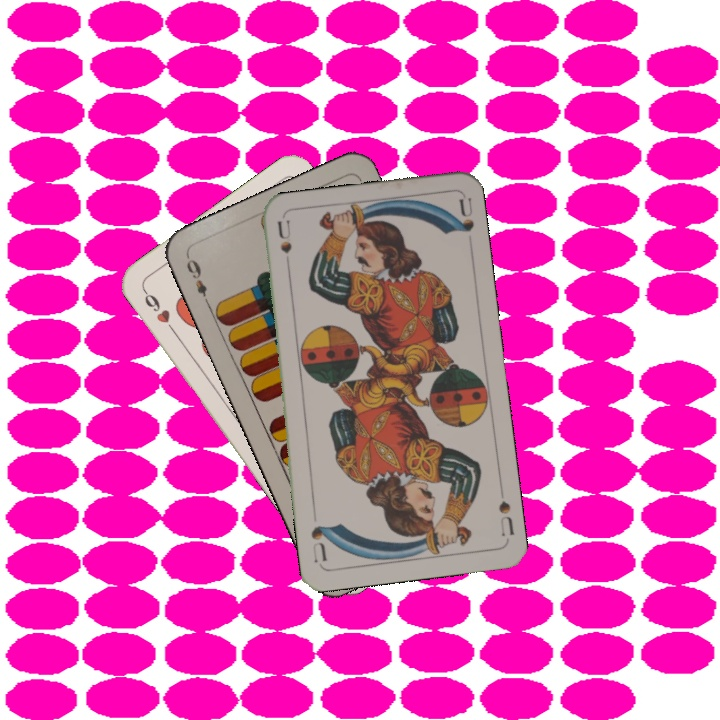E9: (182, 252, 213, 308)
H9: (139, 285, 179, 337)
SU: (494, 483, 517, 539), (273, 217, 294, 277)
